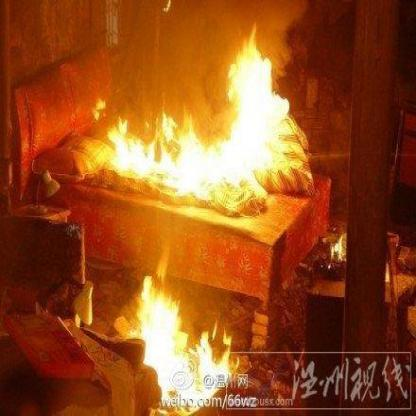fire: (81, 33, 312, 206), (121, 246, 238, 411)
